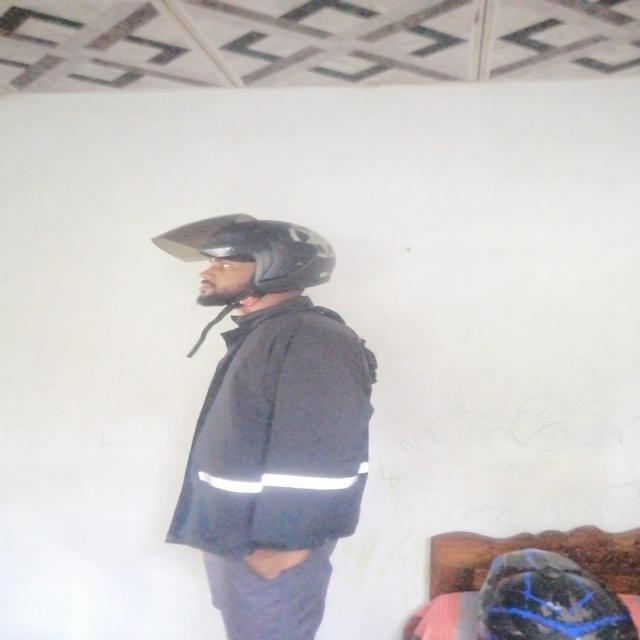Helmet_Wearer: (150, 214, 329, 298)
Jacket_Wearer: (173, 298, 384, 640)
Person: (136, 218, 400, 640)
